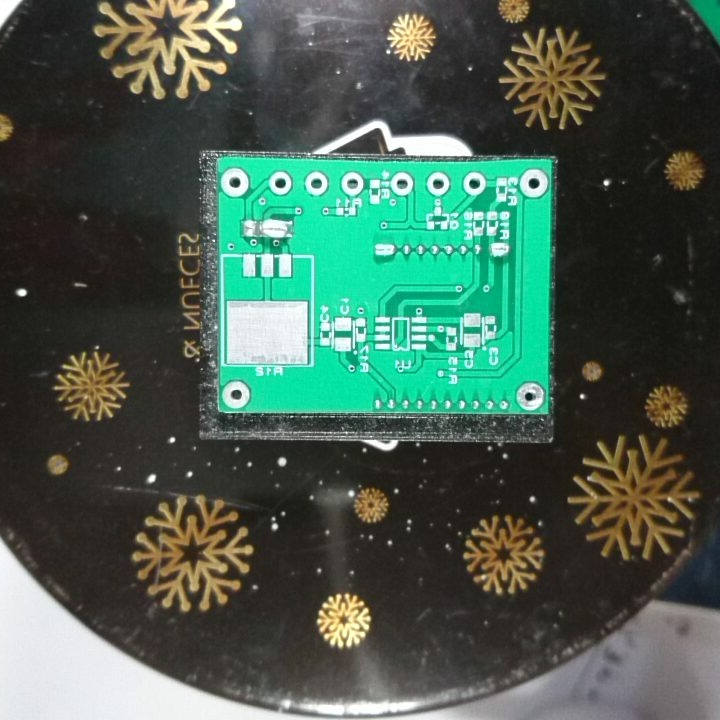F: (219, 166, 253, 199), (514, 380, 546, 412), (220, 380, 254, 410), (518, 168, 548, 199), (303, 169, 330, 198), (424, 170, 452, 197), (266, 170, 294, 197), (460, 171, 487, 197), (388, 172, 414, 197), (339, 171, 361, 197)
P: (255, 215, 296, 242), (371, 240, 397, 260), (488, 240, 513, 260)
